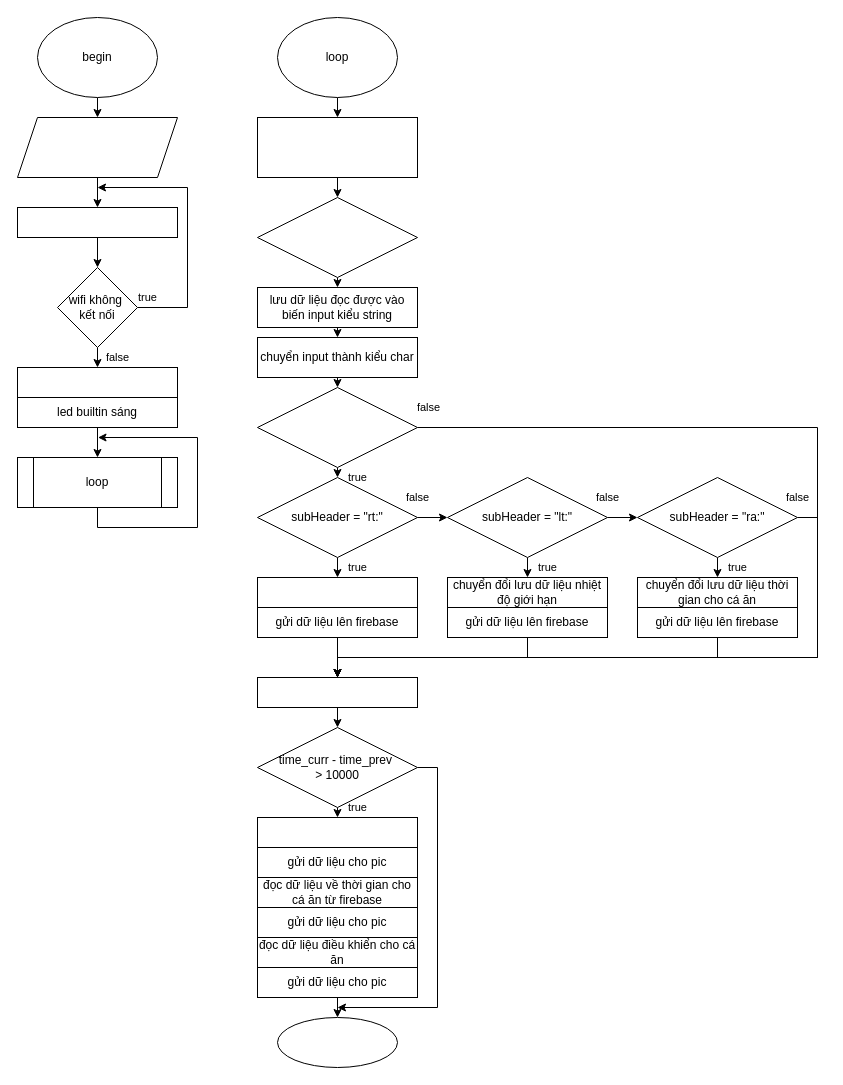
Some shapes in this 843 by 1085 pixel diagram are drawn without their labels. The shapes that lost their labels are listed below. From the top down, each one's centre as x and y in pixels, then its label:
[97,147]: Thiết lập cổng truyền dữ liệu uart với tốc độ 9600. Thiết lập kết nối wifi.
[337,147]: đọc dữ liệu espSerial
[97,222]: kết nối wifi
[337,237]: Nếu espSerial có dữ liệu
[97,382]: Hiển thị địa chỉ ip kết nối ở cửa sổ terminal
[337,427]: header = "dt:"
[337,592]: chuyển đổi lưu dữ liệu nhiệt độ
[337,692]: đọc thời gian hiện tại
[337,832]: đọc dữ liệu về nhiệt độ giới hạn từ firebase
[337,1042]: return
